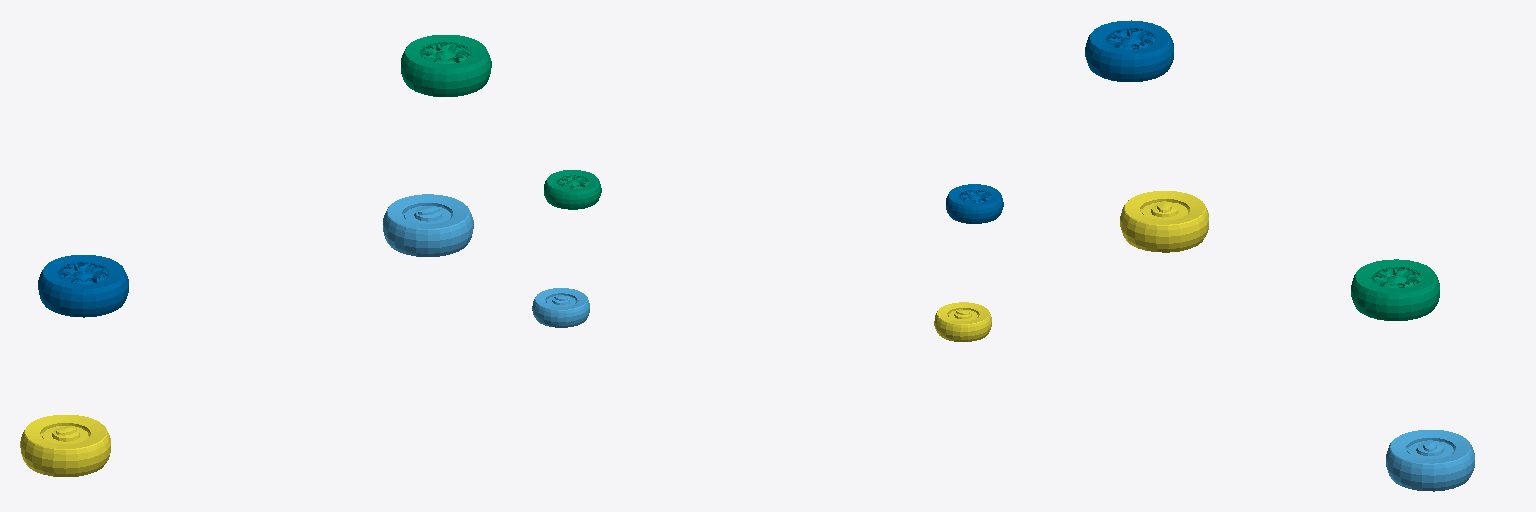
robot.urdf — car_with_steering_suspension:
<?xml version="1.0"?>
<robot name="car_with_steering_suspension">

  <!-- 🚗 차체 -->
  <link name="car_body">
    <inertial>
      <mass value="1200.0"/>
      <inertia
        ixx="400" ixy="0"  ixz="0"
        iyy="800" iyz="0"
        izz="400"/>
    </inertial>
    <collision>
      <geometry><box size="2.5 1.2 0.5"/></geometry>
    </collision>
    <visual>
      <origin xyz="0 0 -0.636" rpy="0 0 0"/>
      <geometry>
        <mesh filename="car_parts/car_body.dae"/>
      </geometry>
    </visual>
  </link>

  <!-- 🛞 바퀴 링크 -->
  <link name="wheel_fl">
    <inertial>
      <mass value="20.0"/>
      <inertia
        ixx="0.5" ixy="0" ixz="0"
        iyy="1.0" iyz="0"
        izz="0.5"/>
    </inertial>
    <collision>
      <origin rpy="1.5708 0 0"/>
      <geometry><cylinder radius="0.35" length="0.2"/></geometry>
    </collision>
    <visual>
      <origin xyz="1.130 0.740 -0.544" rpy="1.5708 0 -1.5708"/>
      <geometry>
        <mesh filename="car_parts/wheel_fl.dae"/>
      </geometry>
    </visual>
  </link>

  <link name="wheel_fr">
    <inertial>
      <mass value="20.0"/>
      <inertia
        ixx="0.5" ixy="0" ixz="0"
        iyy="1.0" iyz="0"
        izz="0.5"/>
    </inertial>
    <collision>
      <origin rpy="1.5708 0 0"/>
      <geometry><cylinder radius="0.35" length="0.2"/></geometry>
    </collision>
    <visual>
      <origin xyz="1.130 -0.740 -0.544" rpy="1.5708 0 -1.5708"/>
      <geometry>
        <mesh filename="car_parts/wheel_fr.dae"/>
      </geometry>
    </visual>
  </link>

  <link name="wheel_rl">
    <inertial>
      <mass value="20.0"/>
      <inertia
        ixx="0.5" ixy="0" ixz="0"
        iyy="1.0" iyz="0"
        izz="0.5"/>
    </inertial>
    <collision>
      <origin rpy="1.5708 0 0"/>
      <geometry><cylinder radius="0.35" length="0.2"/></geometry>
    </collision>
    <visual>
      <origin xyz="-1.000 0.740 -0.544" rpy="1.5708 0 -1.5708"/>
      <geometry>
        <mesh filename="car_parts/wheel_rl.dae"/>
      </geometry>
    </visual>
  </link>

  <link name="wheel_rr">
    <inertial>
      <mass value="20.0"/>
      <inertia
        ixx="0.5" ixy="0" ixz="0"
        iyy="1.0" iyz="0"
        izz="0.5"/>
    </inertial>
    <collision>
      <origin rpy="1.5708 0 0"/>
      <geometry><cylinder radius="0.35" length="0.2"/></geometry>
    </collision>
    <visual>
      <origin xyz="-1.000 -0.740 -0.544" rpy="1.5708 0 -1.5708"/>
      <geometry>
        <mesh filename="car_parts/wheel_rr.dae"/>
      </geometry>
    </visual>
  </link>

  <!-- ⚙️ 서스펜션 링크 (fixed 조인트이므로 최소한의 질량) -->
  <link name="susp_fl">
    <inertial>
      <mass value="1.0"/>
      <inertia ixx="0.01" ixy="0" ixz="0" iyy="0.01" iyz="0" izz="0.01"/>
    </inertial>
  </link>
  <link name="susp_fr">
    <inertial>
      <mass value="1.0"/>
      <inertia ixx="0.01" ixy="0" ixz="0" iyy="0.01" iyz="0" izz="0.01"/>
    </inertial>
  </link>
  <link name="susp_rl">
    <inertial>
      <mass value="1.0"/>
      <inertia ixx="0.01" ixy="0" ixz="0" iyy="0.01" iyz="0" izz="0.01"/>
    </inertial>
  </link>
  <link name="susp_rr">
    <inertial>
      <mass value="1.0"/>
      <inertia ixx="0.01" ixy="0" ixz="0" iyy="0.01" iyz="0" izz="0.01"/>
    </inertial>
  </link>

  <!-- 🔄 조향 링크 (앞바퀴용, 조향과 회전을 분리) -->
  <link name="steer_fl_link">
    <inertial>
      <mass value="0.5"/>
      <inertia ixx="0.01" ixy="0" ixz="0" iyy="0.01" iyz="0" izz="0.01"/>
    </inertial>
  </link>
  <link name="steer_fr_link">
    <inertial>
      <mass value="0.5"/>
      <inertia ixx="0.01" ixy="0" ixz="0" iyy="0.01" iyz="0" izz="0.01"/>
    </inertial>
  </link>

  <!-- 🔩 조인트 구조 -->
  <!-- 앞왼쪽 -->
  <joint name="susp_fl_joint" type="fixed">
    <parent link="car_body"/>
    <child link="susp_fl"/>
    <origin xyz="1.2 -0.6 -0.25" rpy="0 0 0"/>
  </joint>

  <joint name="steer_fl" type="revolute">
    <parent link="susp_fl"/>
    <child link="steer_fl_link"/>
    <origin xyz="0 0 -0.35" rpy="0 0 0"/>
    <axis xyz="0 0 1"/>
    <limit lower="-0.6" upper="0.6" effort="500" velocity="2"/>
  </joint>

  <joint name="wheel_fl_rotate" type="continuous">
    <parent link="steer_fl_link"/>
    <child link="wheel_fl"/>
    <origin xyz="0 0 0" rpy="0 0 0"/>
    <axis xyz="0 1 0"/>
  </joint>

  <!-- 앞오른쪽 -->
  <joint name="susp_fr_joint" type="fixed">
    <parent link="car_body"/>
    <child link="susp_fr"/>
    <origin xyz="1.2 0.6 -0.25" rpy="0 0 0"/>
  </joint>

  <joint name="steer_fr" type="revolute">
    <parent link="susp_fr"/>
    <child link="steer_fr_link"/>
    <origin xyz="0 0 -0.35" rpy="0 0 0"/>
    <axis xyz="0 0 1"/>
    <limit lower="-0.6" upper="0.6" effort="500" velocity="2"/>
  </joint>

  <joint name="wheel_fr_rotate" type="continuous">
    <parent link="steer_fr_link"/>
    <child link="wheel_fr"/>
    <origin xyz="0 0 0" rpy="0 0 0"/>
    <axis xyz="0 1 0"/>
  </joint>

  <!-- 뒤왼쪽 -->
  <joint name="susp_rl_joint" type="fixed">
    <parent link="car_body"/>
    <child link="susp_rl"/>
    <origin xyz="-1.2 -0.6 -0.25" rpy="0 0 0"/>
  </joint>

  <joint name="rear_rl" type="continuous">
    <parent link="susp_rl"/>
    <child link="wheel_rl"/>
    <origin xyz="0 0 -0.35" rpy="0 0 0"/>
    <axis xyz="0 1 0"/>
  </joint>

  <!-- 뒤오른쪽 -->
  <joint name="susp_rr_joint" type="fixed">
    <parent link="car_body"/>
    <child link="susp_rr"/>
    <origin xyz="-1.2 0.6 -0.25" rpy="0 0 0"/>
  </joint>

  <joint name="rear_rr" type="continuous">
    <parent link="susp_rr"/>
    <child link="wheel_rr"/>
    <origin xyz="0 0 -0.35" rpy="0 0 0"/>
    <axis xyz="0 1 0"/>
  </joint>

</robot>

--- Render facts (derived) ---
The picture shows the robot from 3 angles, left to right: view 1: azimuth 30°, elevation 25°; view 2: azimuth 150°, elevation 25°; view 3: azimuth 270°, elevation 25°; orthographic projection.
Model car_with_steering_suspension with 11 links and 10 joints (2 revolute, 4 continuous, 4 fixed), rooted at car_body, posed every joint at zero.
Links seen in each view (by area): view 1: wheel_fl, wheel_rr, wheel_fr, wheel_rl; view 2: wheel_fl, wheel_rr, wheel_rl, wheel_fr; view 3: wheel_rl, wheel_fl, wheel_fr, wheel_rr.
Link boxes in pixels (x1,y1,x2,y2): wheel_fl: (383, 194, 473, 256); wheel_rr: (38, 255, 128, 317); wheel_fr: (401, 35, 491, 96); wheel_rl: (20, 415, 110, 476); wheel_fl: (532, 288, 589, 327); wheel_rr: (946, 184, 1003, 223); wheel_rl: (934, 302, 991, 341); wheel_fr: (544, 170, 601, 209); wheel_rl: (1120, 191, 1208, 252); wheel_fl: (1386, 430, 1474, 491); wheel_fr: (1351, 259, 1439, 320); wheel_rr: (1085, 20, 1173, 81).
Size in the robot's own frame: 5.25 by 3.13 by 1.76 metres.
Meshes: 5 distinct files referenced, 4 mesh visuals loaded (4 Collada DAE); not drawn: 1 (reference not matched to a file when rendering).
